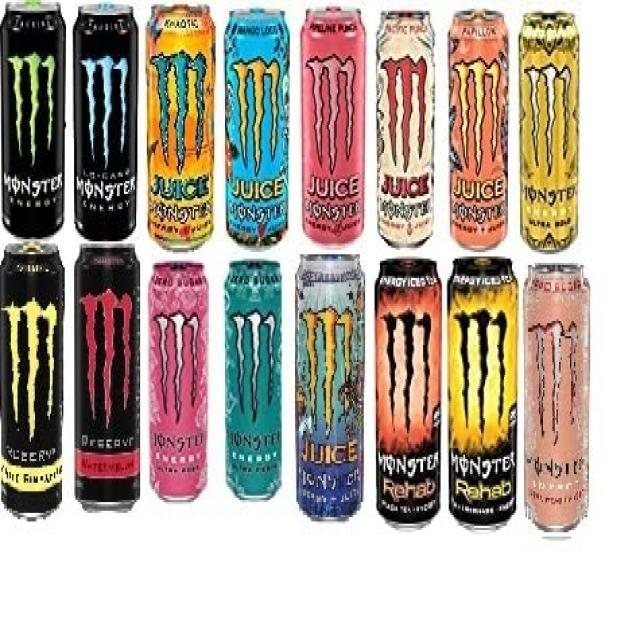Cans: (286, 255, 369, 524), (367, 251, 447, 527), (446, 255, 521, 532), (68, 240, 142, 516), (522, 258, 592, 542), (0, 239, 69, 522), (514, 0, 586, 257), (143, 0, 216, 253), (221, 0, 294, 253), (443, 0, 516, 253), (296, 0, 369, 245), (71, 0, 140, 240), (147, 258, 215, 500), (373, 0, 439, 248), (220, 256, 286, 496), (0, 0, 65, 237)
